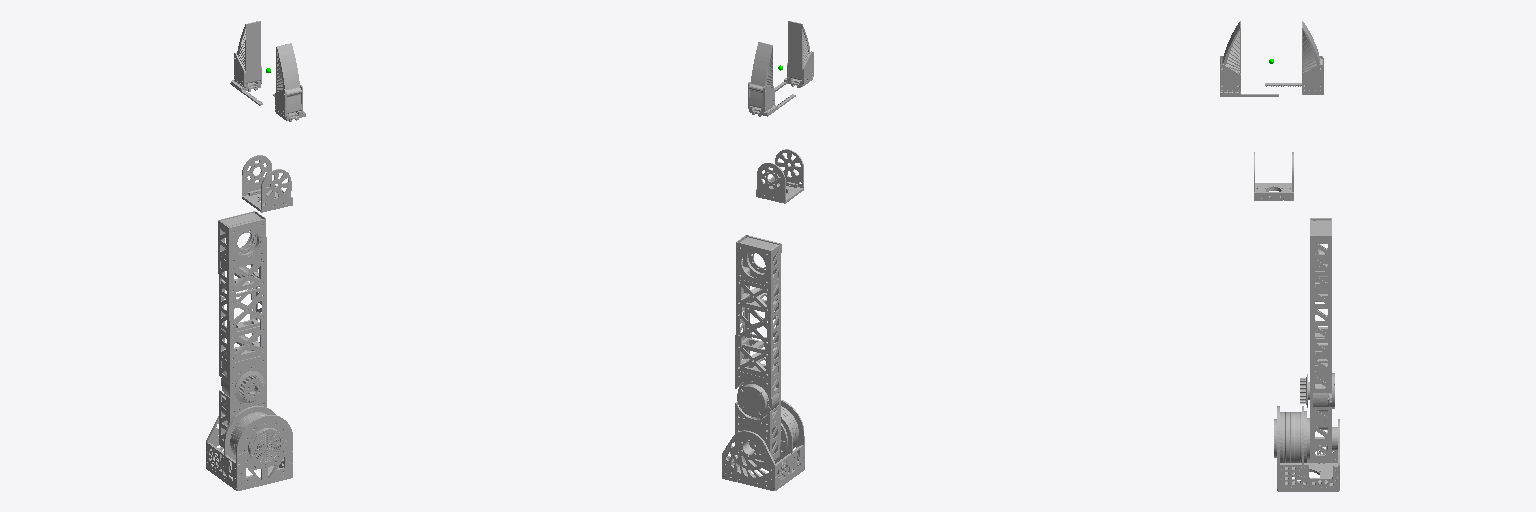
URDF robot description (engineer_v3):
<?xml version="1.0" encoding="utf-8"?>
<!-- This URDF was automatically created by SolidWorks to URDF Exporter! Originally created by [author] ([email redacted]) 
     Commit Version: 1.6.0-4-g7f85cfe  Build Version: 1.6.7995.38578
     For more information, please see http://wiki.ros.org/sw_urdf_exporter -->
<robot
  name="engineer_v3">
  <link
    name="base_link">
    <!-- <inertial>
      <origin
        xyz="0.00747216288276144 -0.000170546427689003 -0.0203153824462159"
        rpy="0 0 0" />
      <mass
        value="6.90846807013185" />
      <inertia
        ixx="0.0142117014321635"
        ixy="-1.30838158871048E-07"
        ixz="-5.0156457372994E-07"
        iyy="0.0248631128348608"
        iyz="-3.55253602144434E-05"
        izz="0.0349220453558492" />
    </inertial> -->
    <visual>
      <origin
        xyz="0 0 0"
        rpy="0 0 0" />
      <geometry>
        <mesh
          filename="package://engineer_description/meshes/dae/base_link_visual.dae" />
      </geometry>
      <material
        name="">
        <color
          rgba="0.752941176470588 0.752941176470588 0.752941176470588 1" />
      </material>
    </visual>
    <collision>
      <origin
        xyz="0 0 0"
        rpy="0 0 0" />
      <geometry>
        <mesh
          filename="package://engineer_description/meshes/stl/base_link_collision.stl" />
      </geometry>
    </collision>
  </link>
  <link
    name="link1">
    <inertial>
      <origin
        xyz="0.000366137945781442 -0.00105304404993535 -0.0616109170802233"
        rpy="0 0 0" />
      <mass
        value="1.17098454636785" />
      <inertia
        ixx="0.00109306734552794"
        ixy="-4.36857458704801E-07"
        ixz="-1.06862312344357E-05"
        iyy="0.0016616402484593"
        iyz="-8.42838995009536E-06"
        izz="0.00124060937006993" />
    </inertial>
    <visual>
      <origin
        xyz="0 0 0"
        rpy="0 0 0" />
      <geometry>
        <mesh
          filename="package://engineer_description/meshes/dae/link1_visual.dae" />
      </geometry>
      <material
        name="">
        <color
          rgba="0.752941176470588 0.752941176470588 0.752941176470588 1" />
      </material>
    </visual>
    <collision>
      <origin
        xyz="0 0 0"
        rpy="0 0 0" />
      <geometry>
        <mesh
          filename="package://engineer_description/meshes/stl/link1_collision.stl" />
      </geometry>
    </collision>
  </link>
  <joint
    name="joint1"
    type="revolute">
    <origin
      xyz="0.145999999999969 0 0.0249999999999997"
      rpy="-3.14159265358979 0 3.14159265358979" />
    <parent
      link="base_link" />
    <child
      link="link1" />
    <axis
      xyz="0 0 -1" />
    <limit effort="100" lower="-3.14159265358979" upper="3.14159265358979" velocity="1.0" />
  </joint>
  <link
    name="link2">
    <inertial>
      <origin
        xyz="-0.200592245791256 0.0657205410737112 -0.018830287831907"
        rpy="0 0 0" />
      <mass
        value="0.875762307461488" />
      <inertia
        ixx="0.00140154690392888"
        ixy="0.00207467055469233"
        ixz="5.34961661049531E-05"
        iyy="0.00706101645253342"
        iyz="-1.76758268134214E-05"
        izz="0.00825152252887499" />
    </inertial>
    <visual>
      <origin
        xyz="0 0 0"
        rpy="0 0 0" />
      <geometry>
        <mesh
          filename="package://engineer_description/meshes/dae/link2_visual.dae" />
      </geometry>
      <material
        name="">
        <color
          rgba="0.752941176470588 0.752941176470588 0.752941176470588 1" />
      </material>
    </visual>
    <collision>
      <origin
        xyz="0 0 0"
        rpy="0 0 0" />
      <geometry>
        <mesh
          filename="package://engineer_description/meshes/stl/link2_collision.stl" />
      </geometry>
    </collision>
  </link>
  <joint
    name="joint2"
    type="revolute">
    <origin
      xyz="0 0.0428 -0.08"
      rpy="-1.5707963267949 -1.26 0" />
    <parent
      link="link1" />
    <child
      link="link2" />
    <axis
      xyz="0 0 1" />
    <limit effort="100" lower="-1.7" upper="1.7" velocity="1.0" />
  </joint>
  <link
    name="link3">
    <inertial>
      <origin
        xyz="0.0566723598455576 -0.0273619588785726 0.0396529673877428"
        rpy="0 0 0" />
      <mass
        value="0.839227797526478" />
      <inertia
        ixx="0.000625820314740854"
        ixy="-2.67749854697517E-06"
        ixz="4.62474918005342E-06"
        iyy="0.000621509803460847"
        iyz="-2.39057013845027E-06"
        izz="0.000645188172602444" />
    </inertial>
    <visual>
      <origin
        xyz="0 0 0"
        rpy="0 0 0" />
      <geometry>
        <mesh
          filename="package://engineer_description/meshes/dae/link3_visual.dae" />
      </geometry>
      <material
        name="">
        <color
          rgba="0.752941176470588 0.752941176470588 0.752941176470588 1" />
      </material>
    </visual>
    <collision>
      <origin
        xyz="0 0 0"
        rpy="0 0 0" />
      <geometry>
        <mesh
          filename="package://engineer_description/meshes/stl/link3_collision.stl" />
      </geometry>
    </collision>
  </link>
  <joint
    name="joint3"
    type="revolute">
    <origin
      xyz="-0.370652268510716 0.12131321382222 -0.0709999999999994"
      rpy="3.14159265358979 0 2.389" />
    <parent
      link="link2" />
    <child
      link="link3" />
    <axis
      xyz="0 0 1" />
    <limit effort="100" lower="-3.14159265358979" upper="3.14159265358979" velocity="1.0" />
  </joint>
  <link
    name="link4">
    <inertial>
      <origin
        xyz="0.000489793827840729 -0.00125702213156248 0.010845047851669"
        rpy="0 0 0" />
      <mass
        value="0.114298072057801" />
      <inertia
        ixx="6.11715826170932E-05"
        ixy="1.53101641703297E-07"
        ixz="-1.0585063422655E-08"
        iyy="4.97757808791351E-05"
        iyz="-4.82662206677388E-08"
        izz="6.72625595976108E-05" />
    </inertial>
    <visual>
      <origin
        xyz="0 0 0"
        rpy="0 0 0" />
      <geometry>
        <mesh
          filename="package://engineer_description/meshes/dae/link4_visual.dae" />
      </geometry>
      <material
        name="">
        <color
          rgba="0.752941176470588 0.752941176470588 0.752941176470588 1" />
      </material>
    </visual>
    <collision>
      <origin
        xyz="0 0 0"
        rpy="0 0 0" />
      <geometry>
        <mesh
          filename="package://engineer_description/meshes/stl/link4_collision.stl" />
      </geometry>
    </collision>
  </link>
  <joint
    name="joint4"
    type="revolute">
    <origin
      xyz="0.104460296822831 -0.0504385406974249 0.0300000000000038"
      rpy="0.4498328363521 1.5707963267949 0" />
    <parent
      link="link3" />
    <child
      link="link4" />
    <axis
      xyz="0 0 -1" />
    <limit effort="100" lower="-3.14159265358979" upper="3.14159265358979" velocity="1.0" />
  </joint>
  <link
    name="link5">
    <inertial>
      <origin
        xyz="0.0501596122333089 6.17326938406881E-06 -0.0346130198917452"
        rpy="0 0 0" />
      <mass
        value="0.43352523929611" />
      <inertia
        ixx="0.000209260077610988"
        ixy="9.4643682642116E-09"
        ixz="4.84408287398383E-07"
        iyy="0.0001512817382304"
        iyz="-5.60770390367035E-09"
        izz="0.00016363360797388" />
    </inertial>
    <visual>
      <origin
        xyz="0 0 0"
        rpy="0 0 0" />
      <geometry>
        <mesh
          filename="package://engineer_description/meshes/dae/link5_visual.dae" />
      </geometry>
      <material
        name="">
        <color
          rgba="0.752941176470588 0.752941176470588 0.752941176470588 1" />
      </material>
    </visual>
    <collision>
      <origin
        xyz="0 0 0"
        rpy="0 0 0" />
      <geometry>
        <mesh
          filename="package://engineer_description/meshes/stl/link5_collision.stl" />
      </geometry>
    </collision>
  </link>
  <joint
    name="joint5"
    type="revolute">
    <origin
      xyz="0.034 0 0.0430000000000003"
      rpy="0 -1.5707963267949 3.14" />
    <parent
      link="link4" />
    <child
      link="link5" />
    <axis
      xyz="0 0 1" />
    <limit effort="100" lower="-2.19" upper="2.19" velocity="1.0" />
  </joint>
  <link
    name="link6">
    <inertial>
      <origin
        xyz="-3.35960868428631E-05 6.48599977004505E-07 0.0400095071577677"
        rpy="0 0 0" />
      <mass
        value="0.244296826583264" />
      <inertia
        ixx="6.85451051739142E-05"
        ixy="2.71962936853272E-08"
        ixz="-4.18330392022927E-08"
        iyy="0.000243340316781081"
        iyz="-5.31123847823827E-10"
        izz="0.000284315289882117" />
    </inertial>
    <visual>
      <origin
        xyz="0 0 0"
        rpy="0 0 0" />
      <geometry>
        <mesh
          filename="package://engineer_description/meshes/dae/link6_visual.dae" />
      </geometry>
      <material
        name="">
        <color
          rgba="0.752941176470588 0.752941176470588 0.752941176470588 1" />
      </material>
    </visual>
    <collision>
      <origin
        xyz="0 0 0"
        rpy="0 0 0" />
      <geometry>
        <mesh
          filename="package://engineer_description/meshes/stl/link6_collision.stl" />
      </geometry>
    </collision>
  </link>
  <joint
    name="joint6"
    type="revolute">
    <origin
      xyz="0.0964999999999911 0 -0.038000000000001"
      rpy="0 -1.5707963267949 3.14159265358979" />
    <parent
      link="link5" />
    <child
      link="link6" />
    <axis
      xyz="0 0 1" />
    <limit effort="100" lower="-3.14159265358979" upper="3.14159265358979" velocity="1.0" />
  </joint>
  <link
    name="left_finger_link">
    <inertial>
      <origin
        xyz="0.0413522758703984 0.000912786640920038 0.0180789252118048"
        rpy="0 0 0" />
      <mass
        value="0.0892620352075858" />
      <inertia
        ixx="2.02884451605728E-05"
        ixy="-1.35853302398138E-08"
        ixz="-6.88732390085087E-06"
        iyy="7.58924940771188E-05"
        iyz="-4.75757382096248E-08"
        izz="6.84747006745124E-05" />
    </inertial>
    <visual>
      <origin
        xyz="0 0 0"
        rpy="0 0 0" />
      <geometry>
        <mesh
          filename="package://engineer_description/meshes/dae/left_finger_link_visual.dae" />
      </geometry>
      <material
        name="">
        <color
          rgba="0.752941176470588 0.752941176470588 0.752941176470588 1" />
      </material>
    </visual>
    <collision>
      <origin
        xyz="0 0 0"
        rpy="0 0 0" />
      <geometry>
        <mesh
          filename="package://engineer_description/meshes/stl/left_finger_link_collision.stl" />
      </geometry>
    </collision>
  </link>
  <joint
    name="left_finger_joint"
    type="prismatic">
    <origin
      xyz="-0.09199999999988 0 0.0649999999999989"
      rpy="0 -1.5707963267949 3.14" />
    <parent
      link="link6" />
    <child
      link="left_finger_link" />
    <axis
      xyz="0 0 1" />
    <limit effort="100" lower="0" upper="0.03" velocity="0.02" />
  </joint>
  <link
    name="right_finger_link">
    <inertial>
      <origin
        xyz="0.041352275870385 -0.000913374572594938 -0.0180789252121382"
        rpy="0 0 0" />
      <mass
        value="0.0892620352075858" />
      <inertia
        ixx="2.02884451605797E-05"
        ixy="1.35650620547402E-08"
        ixz="6.88732390084103E-06"
        iyy="7.58924940771251E-05"
        iyz="-4.75757382097382E-08"
        izz="6.84747006745118E-05" />
    </inertial>
    <visual>
      <origin
        xyz="0 0 0"
        rpy="0 0 0" />
      <geometry>
        <mesh
          filename="package://engineer_description/meshes/dae/right_finger_link_visual.dae" />
      </geometry>
      <material
        name="">
        <color
          rgba="0.752941176470588 0.752941176470588 0.752941176470588 1" />
      </material>
    </visual>
    <collision>
      <origin
        xyz="0 0 0"
        rpy="0 0 0" />
      <geometry>
        <mesh
          filename="package://engineer_description/meshes/stl/right_finger_link_collision.stl" />
      </geometry>
    </collision>
  </link>
  <joint
    name="right_finger_joint"
    type="prismatic">
    <origin
      xyz="0.09199999999988 0 0.0649999999999989"
      rpy="0 -1.5707963267949 3.14" />
    <parent
      link="link6" />
    <child
      link="right_finger_link" />
    <axis
      xyz="0 0 -1" />
    <limit effort="100" lower="0" upper="0.03" velocity="0.02" />
    <mimic joint="left_finger_joint" />
  </joint>
 <link name="tcp_link">
    <visual>
      <origin xyz="0 0 0" rpy="0 0 0" />
      <geometry>
        <!-- 半径设为 1cm，方便观察 -->
        <sphere radius="0.005" />
      </geometry>
      <material name="green_transparent">
        <color rgba="0 1 0 0.5" />
      </material>
    </visual>
  </link>
  <joint name="tcp_joint" type="fixed">
    <origin xyz="0 0 0.125" rpy="0 0 0" />
    <parent link="link6" />
    <child link="tcp_link" />
  </joint>
</robot>

--- Render facts (derived) ---
3 views of the same robot in one strip: view 1: azimuth 30°, elevation 25°; view 2: azimuth 150°, elevation 25°; view 3: azimuth 270°, elevation 25° (orthographic).
Model engineer_v3 with 10 links and 9 joints (6 revolute, 2 prismatic, 1 fixed), rooted at base_link, posed all joints at 0.
Visible links, largest first — view 1: link2, link1, link4, left_finger_link, right_finger_link; view 2: link2, link1, link4, right_finger_link, left_finger_link; view 3: link2, link1, right_finger_link, left_finger_link, link4.
Boxes of the visible links, x1,y1,x2,y2 form: link2: [218, 211, 266, 447]; link1: [206, 406, 292, 490]; link4: [242, 155, 292, 212]; left_finger_link: [273, 43, 305, 121]; right_finger_link: [230, 21, 262, 105]; link2: [735, 235, 781, 460]; link1: [722, 400, 804, 490]; link4: [756, 149, 803, 203]; right_finger_link: [748, 42, 795, 116]; left_finger_link: [774, 21, 813, 91]; link2: [1300, 218, 1334, 461]; link1: [1274, 406, 1339, 491]; right_finger_link: [1265, 21, 1323, 94]; left_finger_link: [1220, 21, 1278, 96]; link4: [1254, 152, 1293, 200].
Bounding box of the posed robot: 0.12 × 0.2237 × 0.9265 m (x, y, z).
5 mesh visuals loaded from 9 distinct referenced files (5 Collada DAE); not drawn: 4 (reference not matched to a file when rendering).